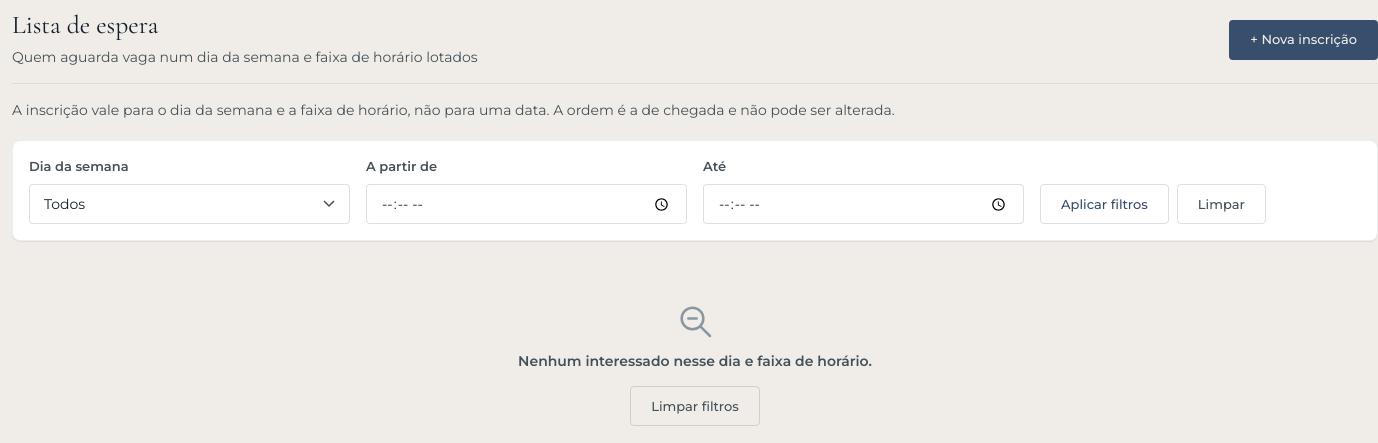
it: ListaEsperaListComponent › should clear and reload the filters from the filtered empty state (issue #146)
Click the button "Limpar filtros": x=695, y=406 top-left (630, 386), bottom-right (760, 426)
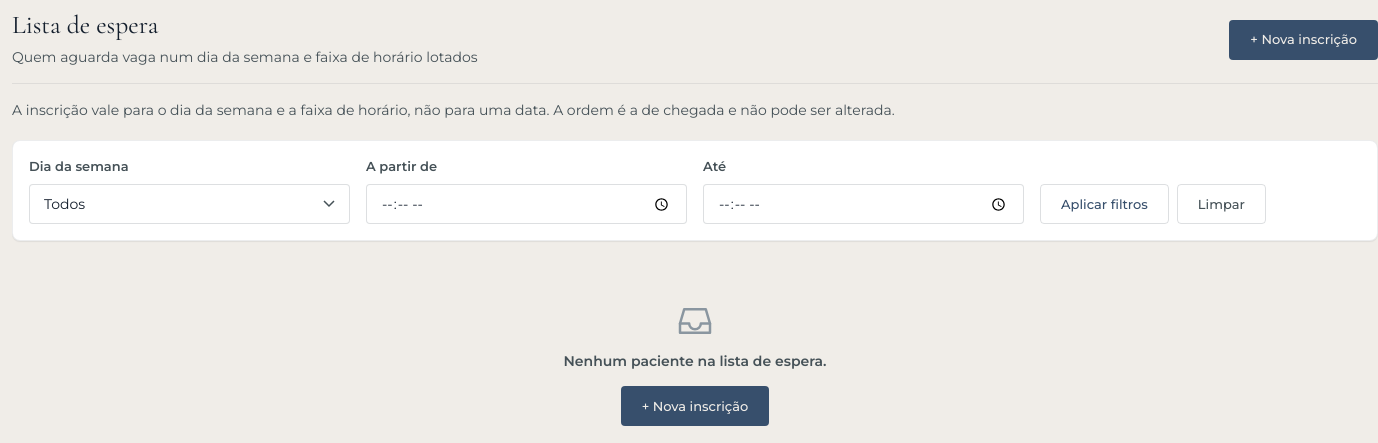
Expected: the text with class "empty-state__mensagem" reads "Nenhum paciente na lista de espera.", top-left (564, 352), bottom-right (826, 370)
